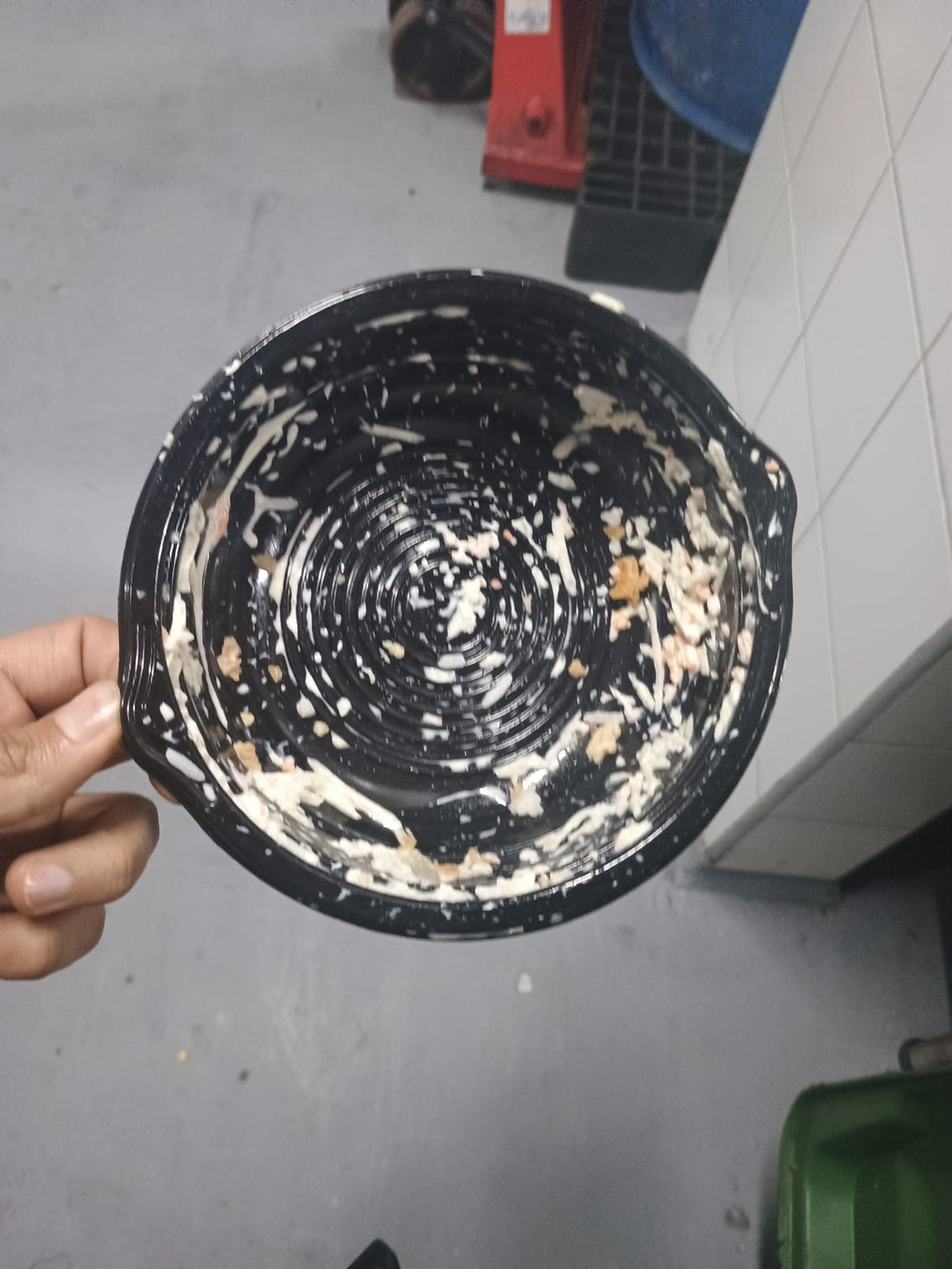Ordinario: (115, 265, 795, 942)
